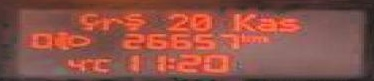0: (201, 52, 225, 71), (187, 11, 209, 30), (30, 31, 52, 47)
1: (128, 53, 139, 73), (155, 52, 163, 71)
2: (174, 52, 198, 71), (163, 11, 184, 28), (119, 32, 141, 47)
4: (65, 57, 84, 71)
5: (190, 31, 214, 48)
6: (165, 31, 190, 47), (144, 31, 165, 47)
7: (217, 33, 239, 49)
X: (228, 11, 255, 30), (73, 10, 98, 30), (122, 11, 144, 28), (90, 56, 111, 72), (255, 16, 277, 31), (277, 16, 298, 31), (98, 15, 119, 29), (236, 31, 250, 41), (249, 34, 266, 41), (166, 55, 174, 69)
